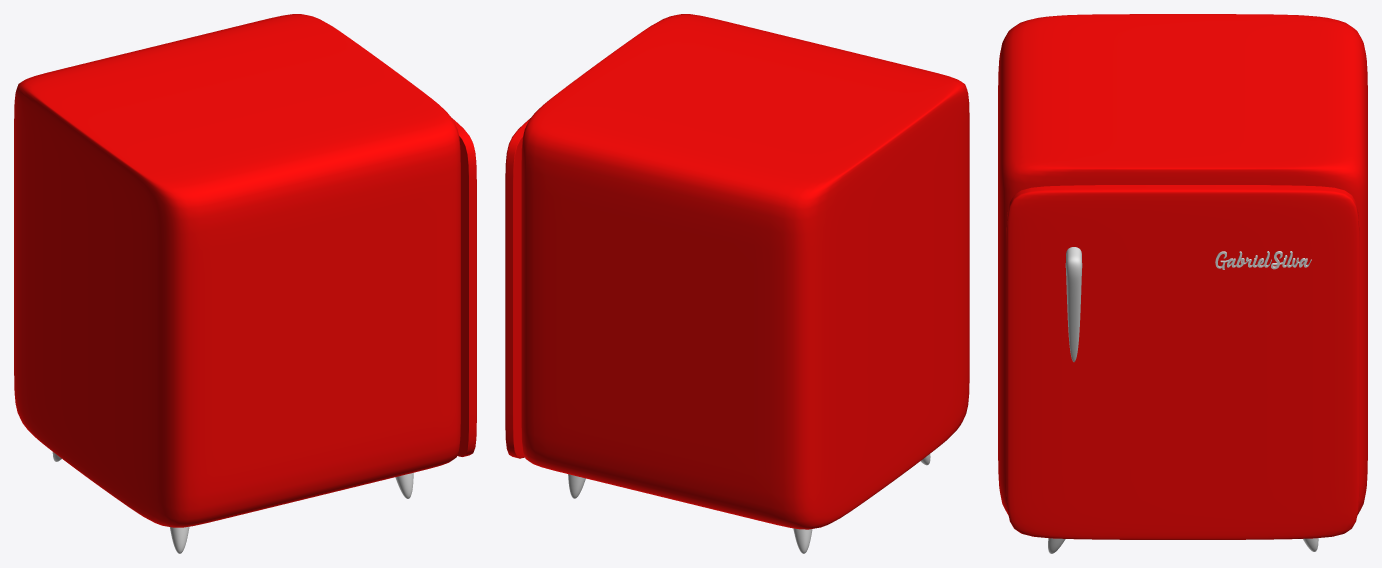
The model's file is frigobar.fbx.
The picture shows the model from 3 angles, left to right: view 1: azimuth 30°, elevation 25°; view 2: azimuth 150°, elevation 25°; view 3: azimuth 270°, elevation 25°; orthographic projection. The views are drawn at different scales.
Parts seen in each view (by area): view 1: Frigobar, porta_frigobar; view 2: Frigobar, porta_frigobar; view 3: porta_frigobar, Frigobar.
Boxes of the visible parts, x1=… form: Frigobar: x1=14, y1=14, x2=460, y2=553; porta_frigobar: x1=452, y1=118, x2=476, y2=456; Frigobar: x1=521, y1=14, x2=969, y2=553; porta_frigobar: x1=505, y1=118, x2=530, y2=458; porta_frigobar: x1=1006, y1=185, x2=1359, y2=539; Frigobar: x1=998, y1=14, x2=1367, y2=553.
Size of the model in its own units: 145 by 157 by 129.
